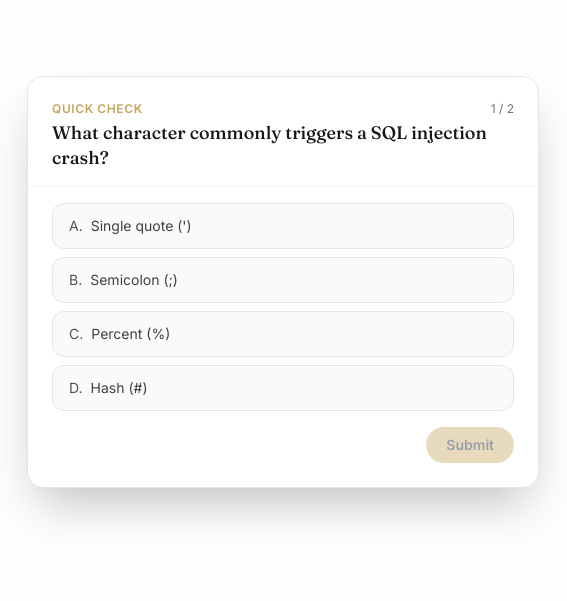
QuizOverlay › does NOT repeat any question explanation inside the score summary (review fix -- was cluttering the modal by re-listing every question's already-shown explanati
Click the radio button "Single quote (')" at coordinates (141, 226), box [52, 203, 514, 249]
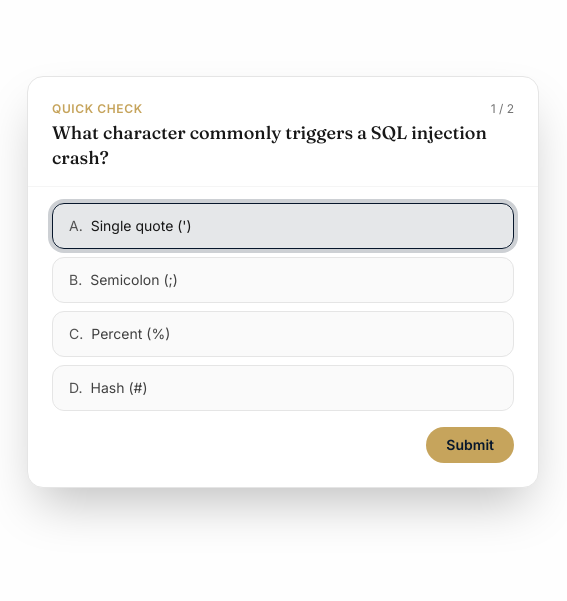
Click the button "Submit" at coordinates (470, 445), box [426, 427, 514, 463]
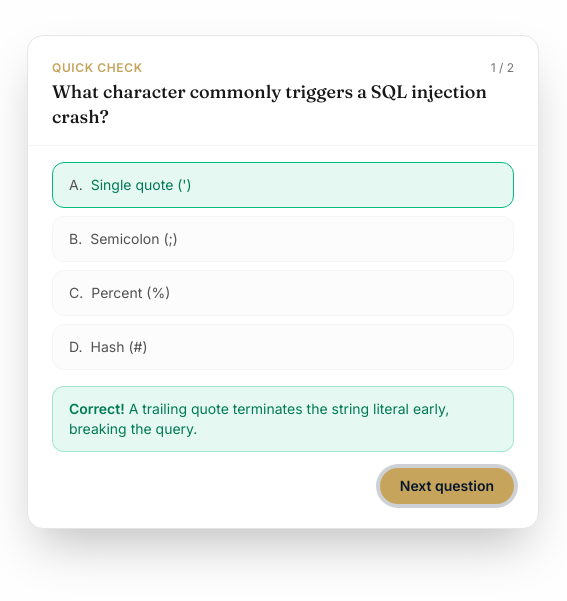
Click the button "Next question" at coordinates (447, 486), box [380, 468, 514, 504]
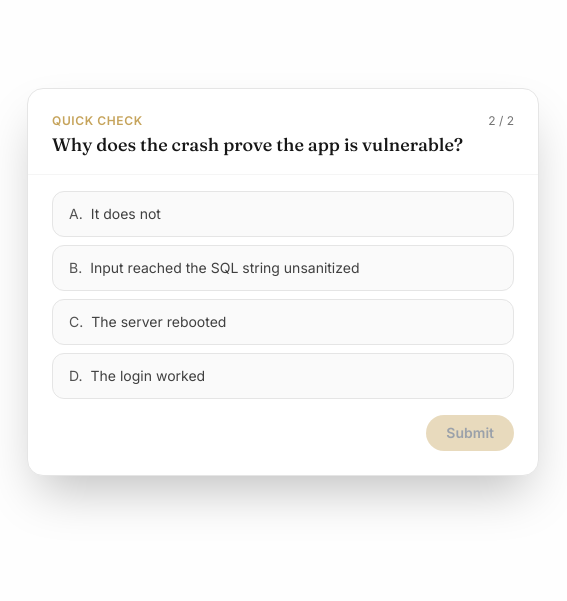
Click the radio button "It does not" at coordinates (126, 213), box [52, 191, 514, 237]
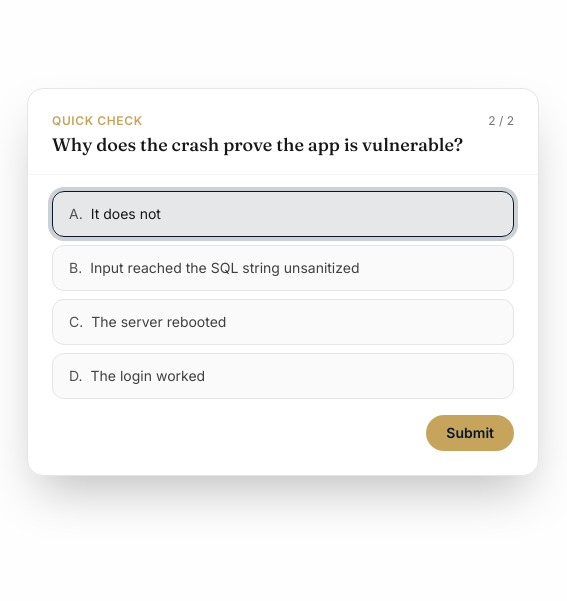
Click the button "Submit" at coordinates (470, 433), box [426, 415, 514, 451]
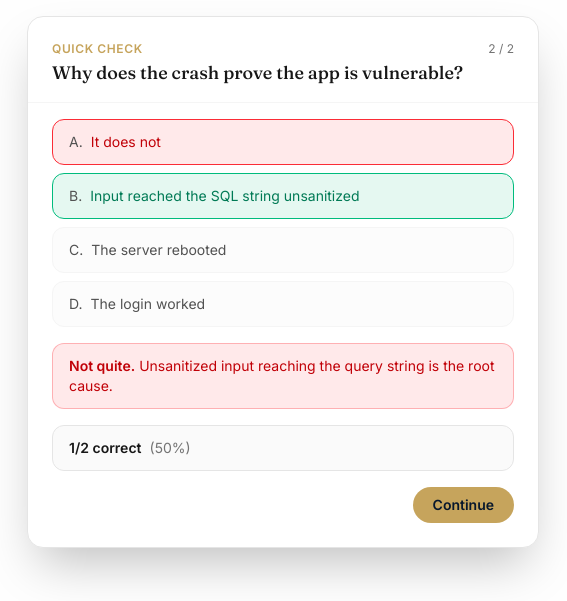
Expected: the text "1/2 correct" is shown, [69, 439, 191, 456]
